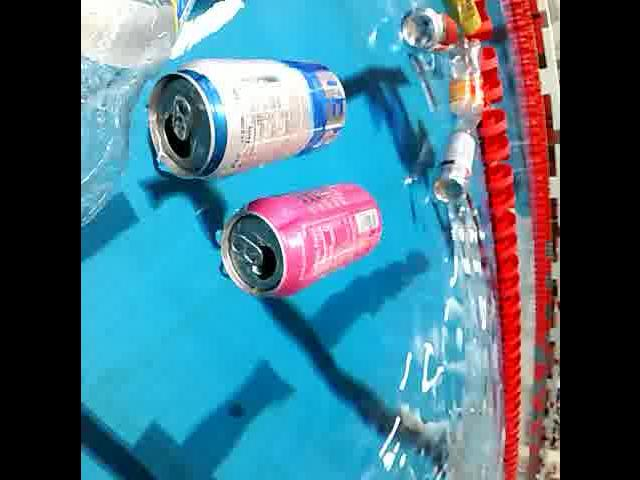Bottle: (80, 0, 218, 232), (442, 33, 486, 138)
Can: (138, 51, 352, 184), (211, 176, 381, 302), (427, 126, 479, 208), (396, 2, 458, 60), (433, 0, 483, 40)
